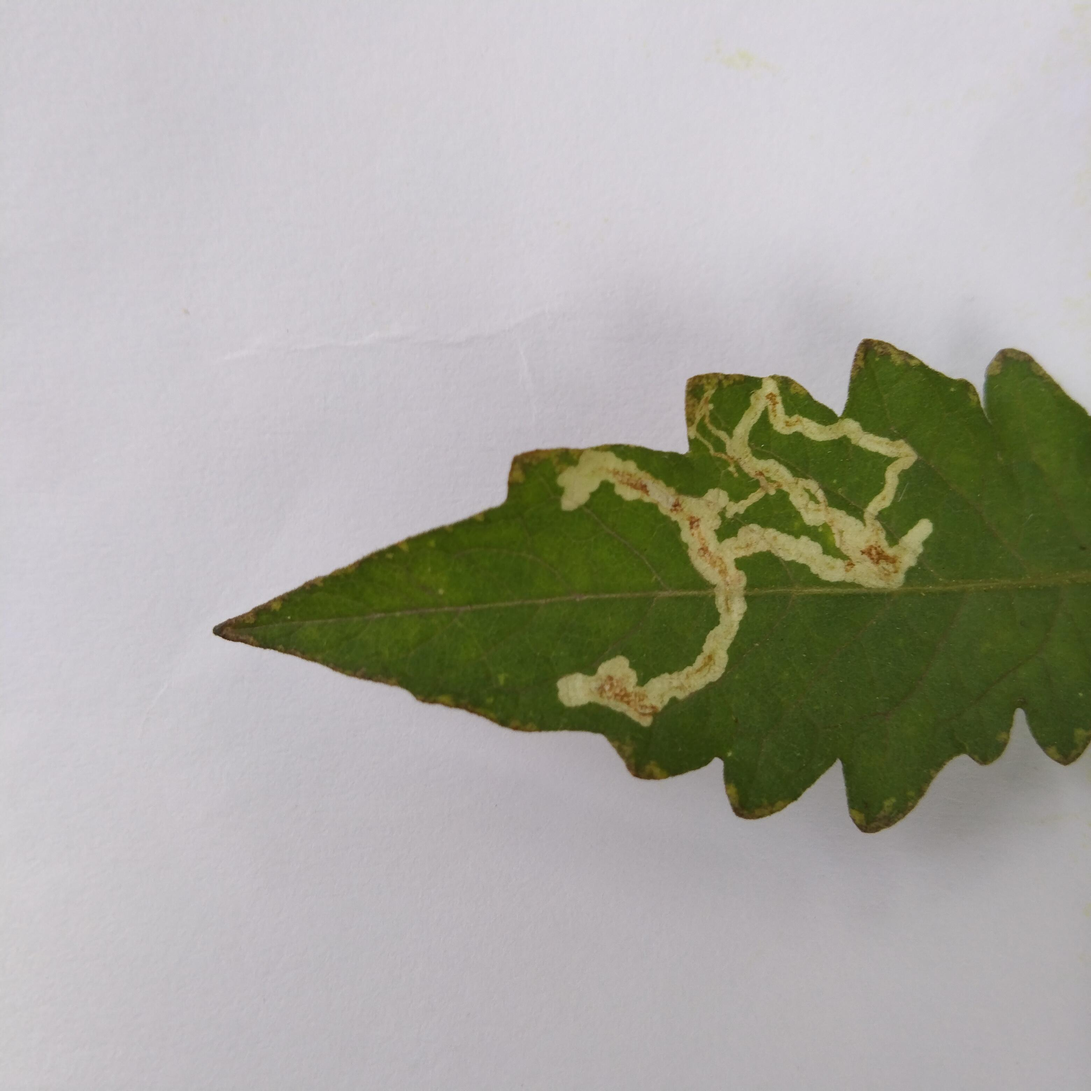Leaf_Miner: (203, 329, 1091, 839)
